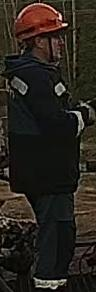gloves: (78, 96, 96, 125)
helmet: (12, 2, 68, 42)
vest: (2, 57, 81, 195)
